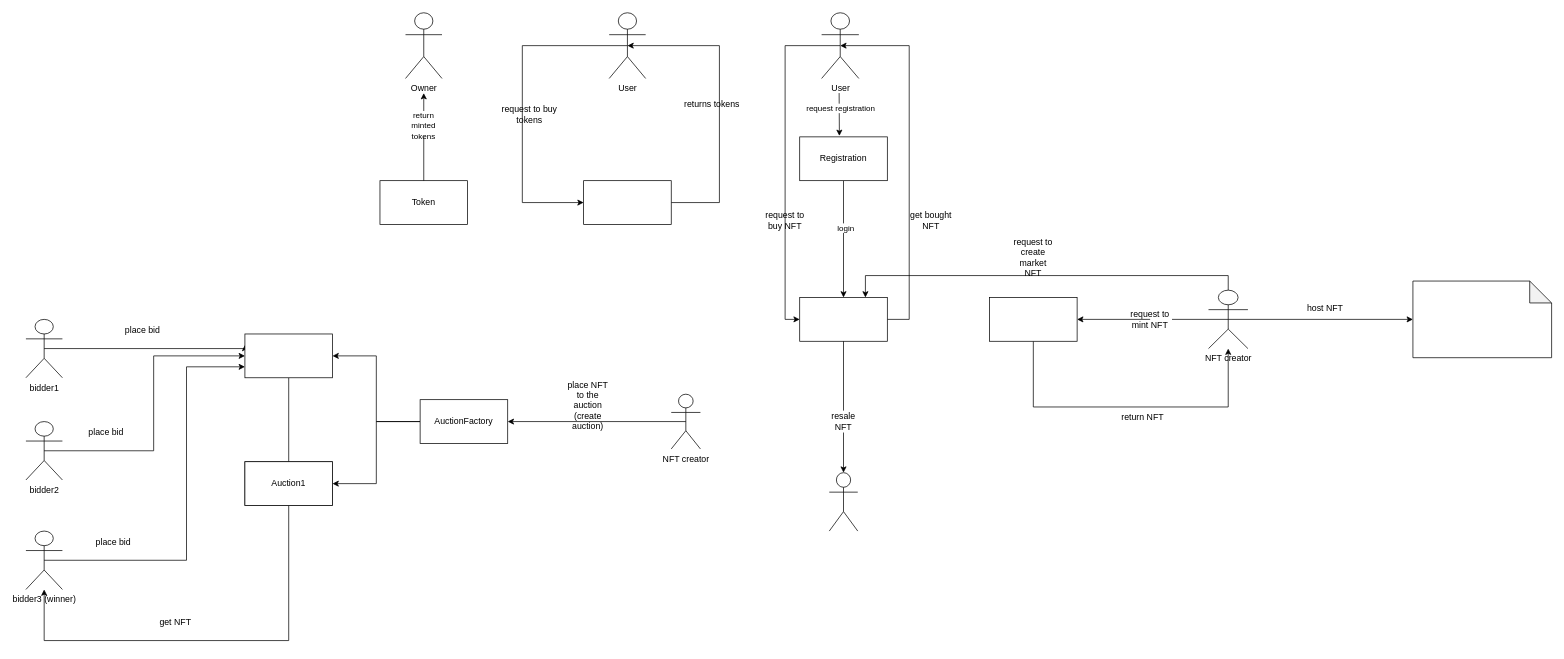
The diagram is 1564 pixels wide and 659 high, and some of its shapes have lost their labels. The box of each missing label's shape, as (x1, y1, x2, y2) in pixels:
Auction2: (244, 333, 333, 378)
IPFS: (1412, 280, 1552, 358)
KPMarket: (799, 297, 887, 341)
NFT: (989, 297, 1077, 341)
Resaler: (829, 472, 858, 531)
Vendor: (583, 180, 671, 224)
